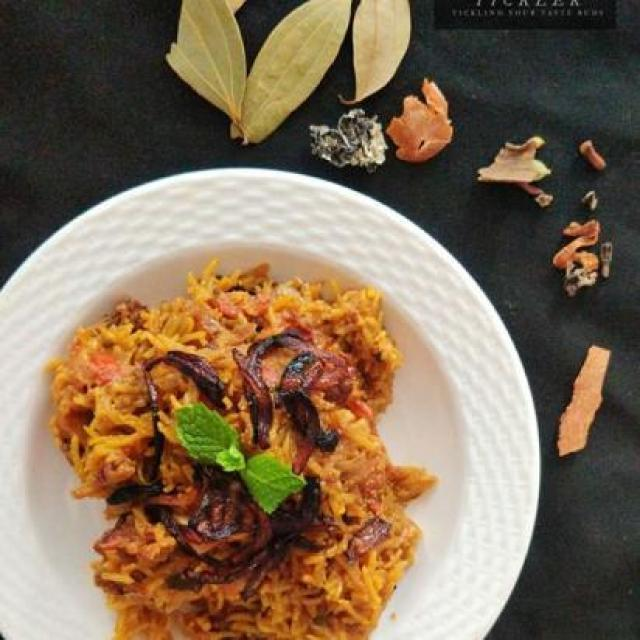biriyani: (41, 257, 434, 639)
